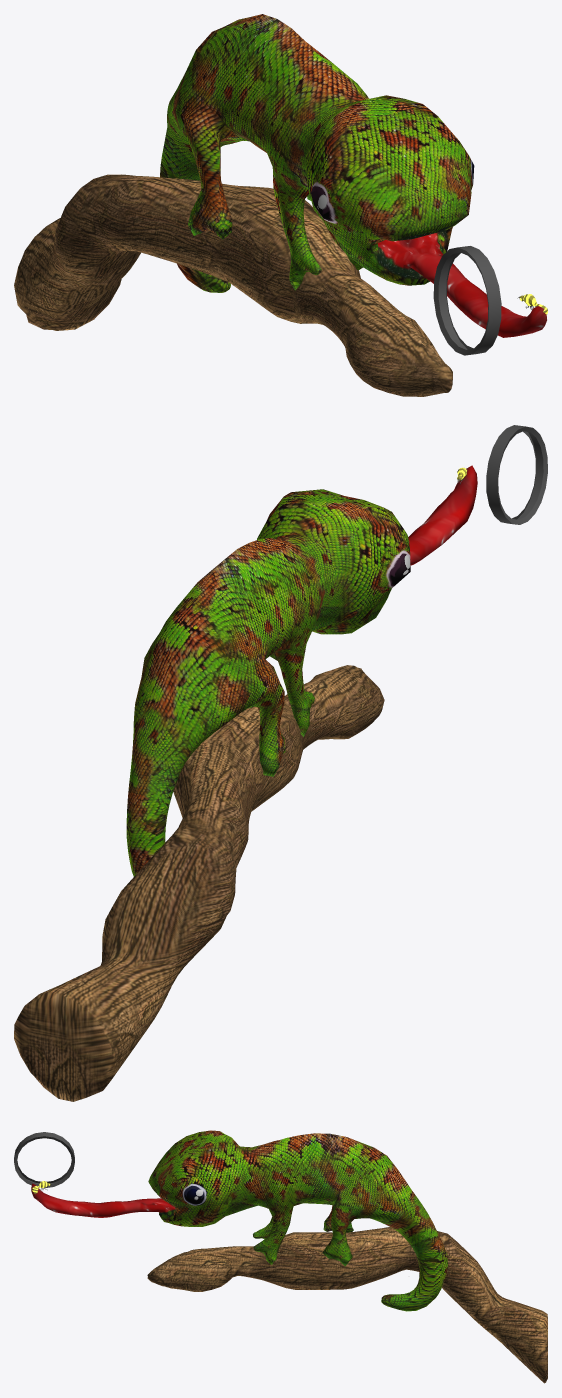
3 views of the same model, one above another, from view 1: azimuth 30°, elevation 25°; view 2: azimuth 150°, elevation 25°; view 3: azimuth 270°, elevation 25° (orthographic). The views are drawn at different scales.
Visible parts, largest first — view 1: camaleao:retopoMSH1 1, polySurface5-retopo 1, polySurface6; view 2: camaleao:retopoMSH1 1, polySurface5-retopo 1, polySurface6; view 3: camaleao:retopoMSH1 1, polySurface5-retopo 1, polySurface6.
Boxes of the visible parts, left/top/right/bottom form: camaleao:retopoMSH1 1: left=160, top=14, right=546, bottom=337; polySurface5-retopo 1: left=14, top=174, right=452, bottom=396; polySurface6: left=433, top=246, right=501, bottom=355; camaleao:retopoMSH1 1: left=126, top=465, right=477, bottom=876; polySurface5-retopo 1: left=14, top=665, right=384, bottom=1101; polySurface6: left=486, top=425, right=547, bottom=524; camaleao:retopoMSH1 1: left=31, top=1130, right=447, bottom=1311; polySurface5-retopo 1: left=147, top=1227, right=547, bottom=1383; polySurface6: left=14, top=1132, right=74, bottom=1187.
Size of what is drawn, in the model's own units: 56.84 by 131 by 252.
Materials: 9 (2 with a texture image).
